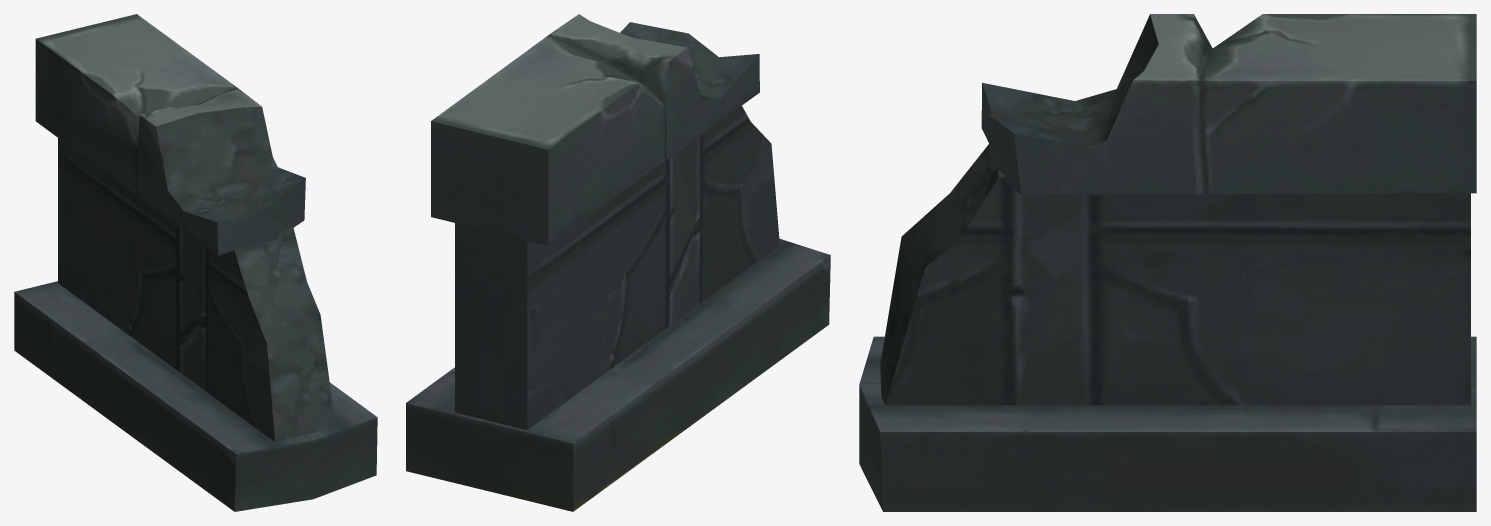
The model's file is Moba_qiang02.FBX.
3 renders of one model, left to right at view 1: azimuth 30°, elevation 25°; view 2: azimuth 150°, elevation 25°; view 3: azimuth 270°, elevation 25°, orthographic. The views are drawn at different scales.
Parts seen in each view (by area): view 1: Moba_qiang02; view 2: Moba_qiang02; view 3: Moba_qiang02.
Part boxes in pixels (x1=…): Moba_qiang02: x1=14, y1=14, x2=377, y2=511; Moba_qiang02: x1=406, y1=14, x2=830, y2=511; Moba_qiang02: x1=859, y1=14, x2=1476, y2=511.
Bounding box in the file's own units: 1.63 × 4.45 × 3.31.
